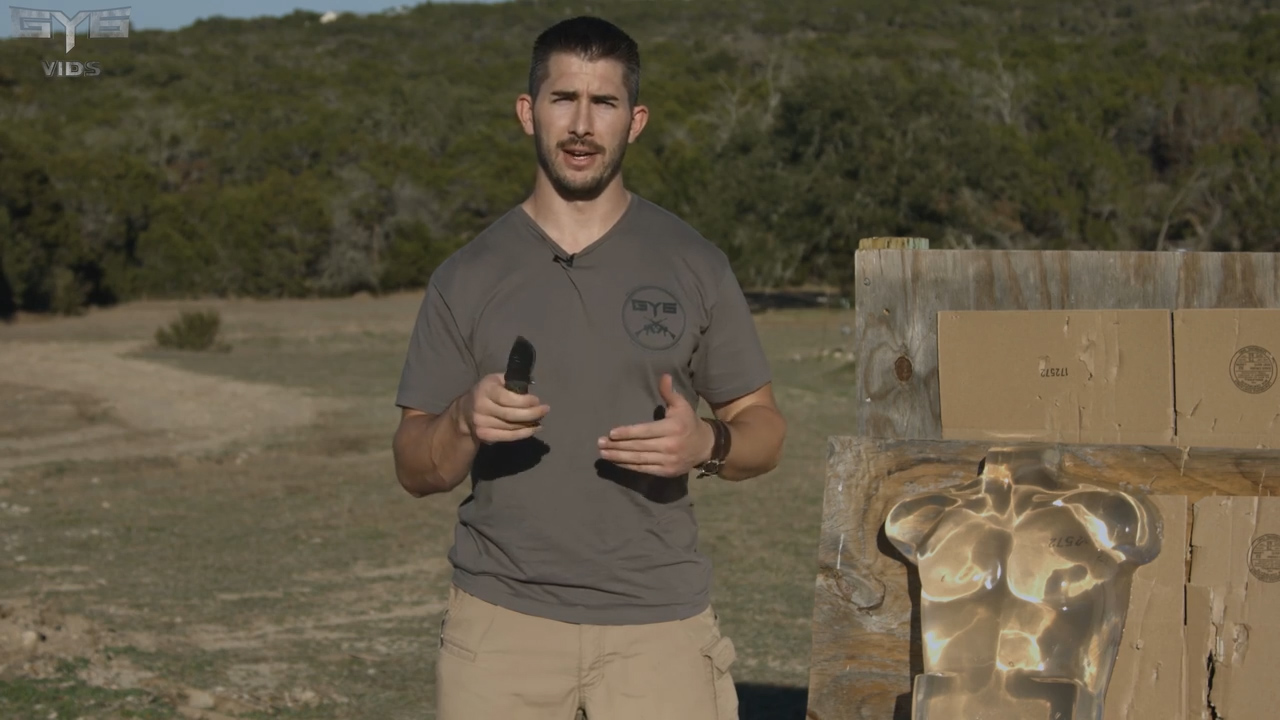knife: (480, 328, 547, 449)
